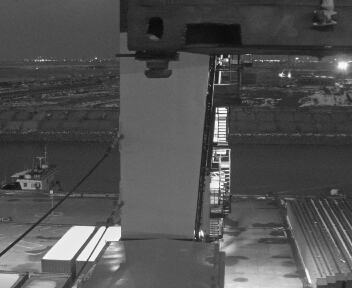twist_lock_1: (127, 43, 184, 89)
